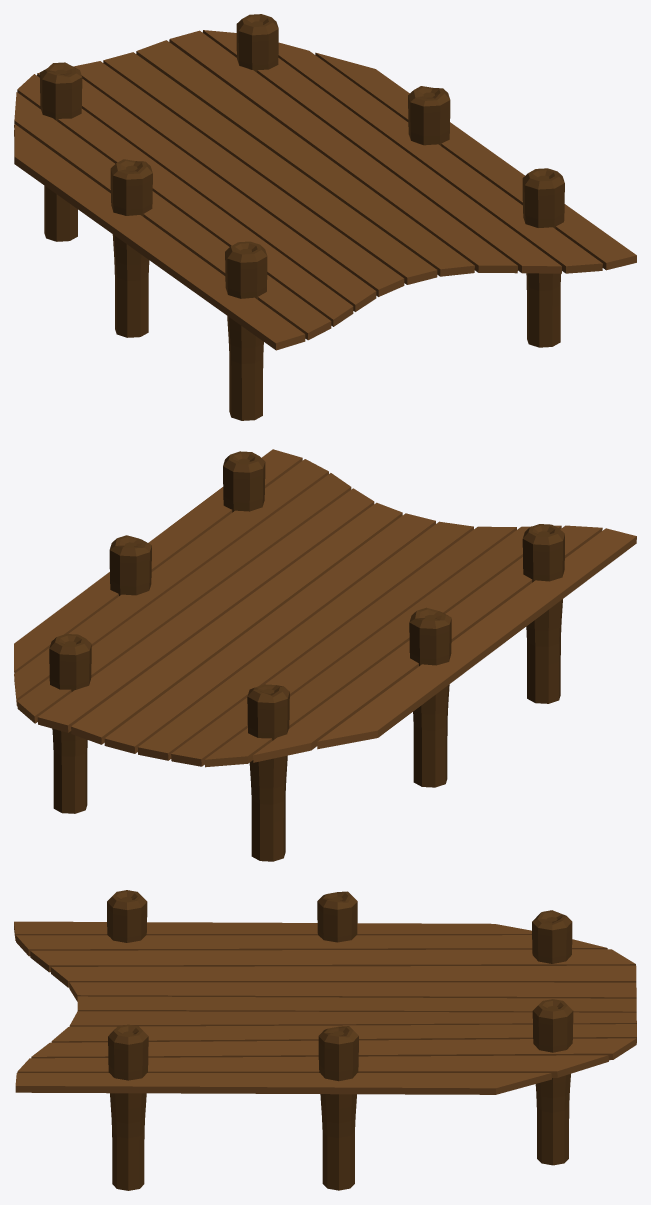
The picture shows the model from 3 angles, top to bottom: view 1: azimuth 30°, elevation 25°; view 2: azimuth 150°, elevation 25°; view 3: azimuth 270°, elevation 25°; orthographic projection. The views are drawn at different scales.
Parts seen in each view (by area): view 1: E_C_Base; view 2: E_C_Base; view 3: E_C_Base.
Boxes of the visible parts, x1,y1,x2,y2 form: E_C_Base: (14, 14, 636, 420); E_C_Base: (14, 449, 636, 861); E_C_Base: (14, 890, 636, 1190).
Bounding box in the file's own units: 516 × 225 × 828.
